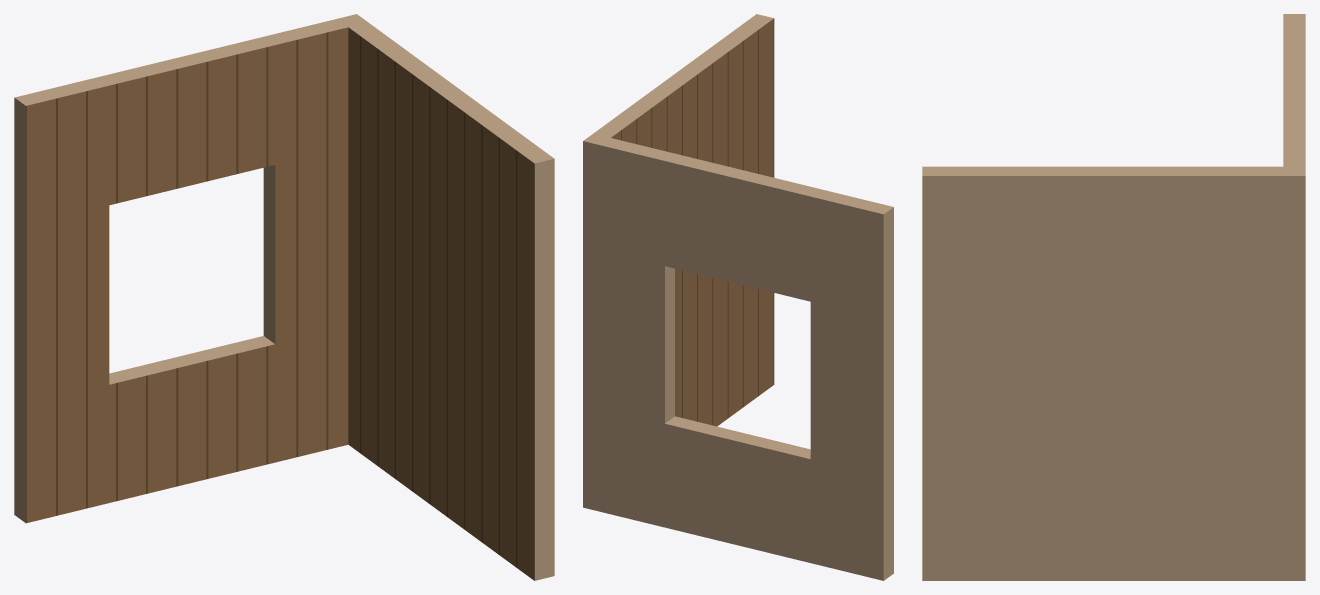
Rendered from Wall2_C9_10.fbx.
The picture shows the model from 3 angles, left to right: view 1: azimuth 30°, elevation 25°; view 2: azimuth 150°, elevation 25°; view 3: azimuth 270°, elevation 25°; orthographic projection. The views are drawn at different scales.
Visible parts, largest first — view 1: Wall2_C9_10; view 2: Wall2_C9_10; view 3: Wall2_C9_10.
Part boxes in pixels (x1,y1,x2,y2): Wall2_C9_10: (14,14,554,580); Wall2_C9_10: (583,14,893,580); Wall2_C9_10: (922,14,1305,580).
Bounding box in the file's own units: 258 × 300 × 258.
